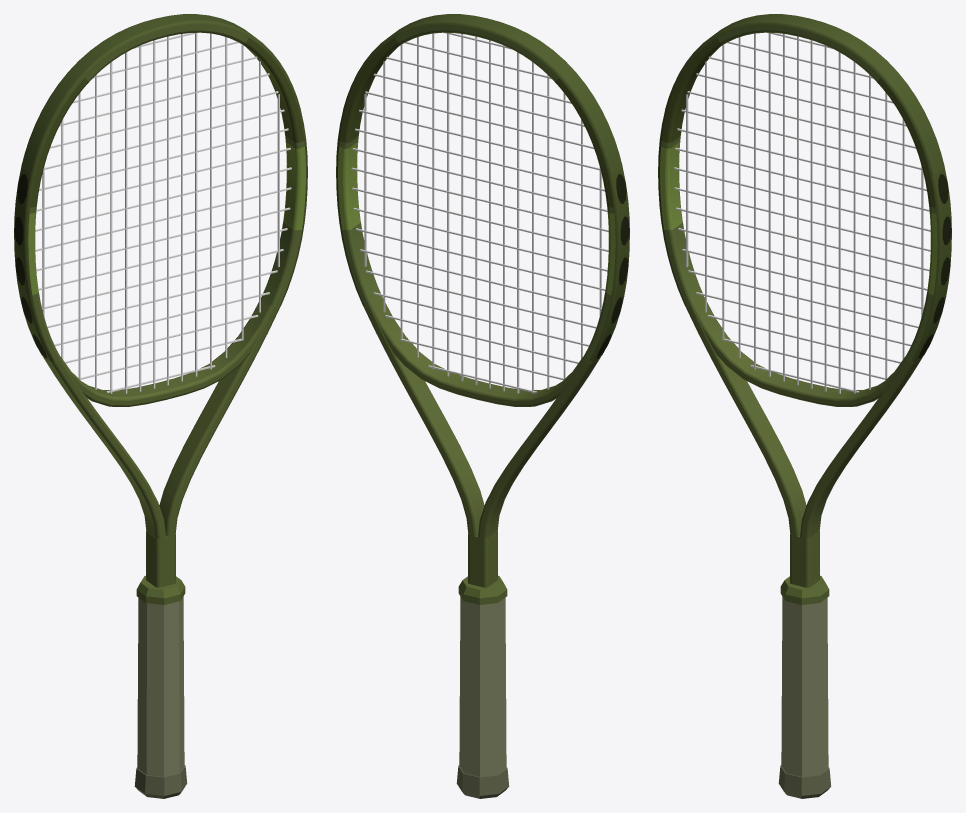
The model's file is prince-o3-phantom-100x.glb.
3 views of the same model, side by side, from view 1: azimuth 30°, elevation 25°; view 2: azimuth 150°, elevation 25°; view 3: azimuth 330°, elevation 25° (orthographic).
Parts seen in each view (by area): view 1: frame, strings_mains, strings_crosses, grip, bumper, grommets, butt_cap, collar; view 2: frame, strings_mains, strings_crosses, grip, bumper, grommets, butt_cap, collar; view 3: frame, strings_mains, strings_crosses, grip, bumper, grommets, butt_cap, collar.
Boxes of the visible parts, <box> form: frame: <box>28,25,305,587</box>; strings_mains: <box>42,33,279,393</box>; strings_crosses: <box>35,32,291,393</box>; grip: <box>137,596,184,776</box>; bumper: <box>21,14,300,175</box>; grommets: <box>14,110,307,361</box>; butt_cap: <box>134,765,187,798</box>; collar: <box>136,575,185,604</box>; frame: <box>338,25,615,587</box>; strings_mains: <box>364,33,601,393</box>; strings_crosses: <box>351,32,608,393</box>; grip: <box>459,596,506,776</box>; bumper: <box>343,14,622,175</box>; grommets: <box>336,110,629,361</box>; butt_cap: <box>456,765,509,798</box>; collar: <box>458,575,507,604</box>; frame: <box>660,25,937,587</box>; strings_mains: <box>686,33,923,393</box>; strings_crosses: <box>674,32,930,393</box>; grip: <box>781,596,828,776</box>; bumper: <box>665,14,944,175</box>; grommets: <box>658,110,951,361</box>; butt_cap: <box>778,765,831,798</box>; collar: <box>780,575,829,604</box>.
Size of the model in its own units: 0.2661 by 0.6861 by 0.0396.
